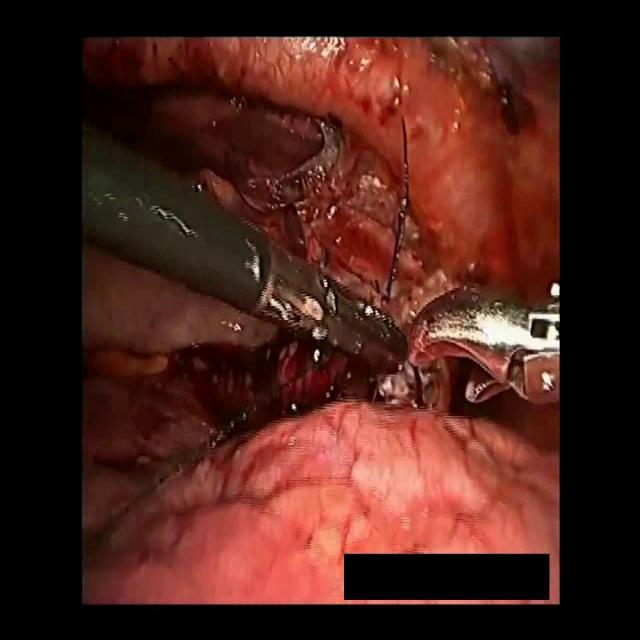surgical-area: (81, 244, 560, 606), (82, 39, 560, 334)
surgical-tool: (81, 119, 408, 378), (407, 283, 560, 404)
